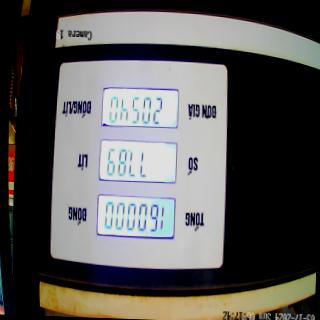screen: (95, 83, 182, 243)
